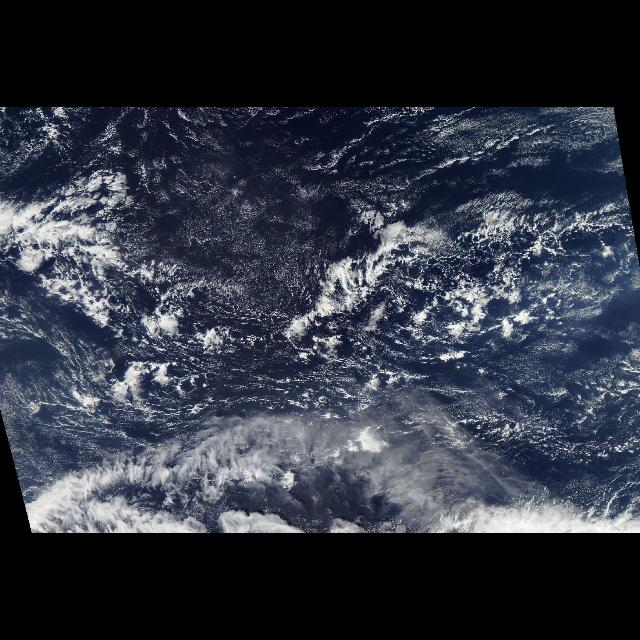Fish: (252, 184, 640, 360), (5, 184, 197, 320)
Gravel: (337, 208, 628, 336), (19, 188, 220, 352)
Sugar: (6, 108, 626, 314), (1, 283, 226, 471), (462, 342, 616, 462)
